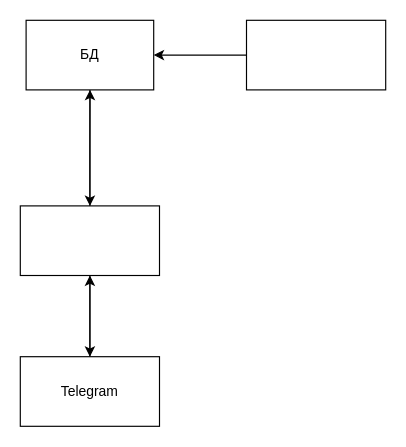
This 406x447 diagram has some shape labels left out. Each missing label, with the box of its shape:
API harvester: (245, 19, 386, 90)
backend server: (19, 205, 160, 276)
